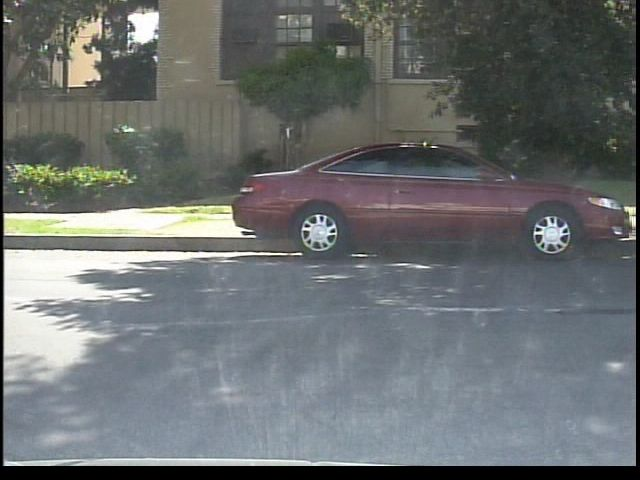car: (225, 141, 631, 267)
